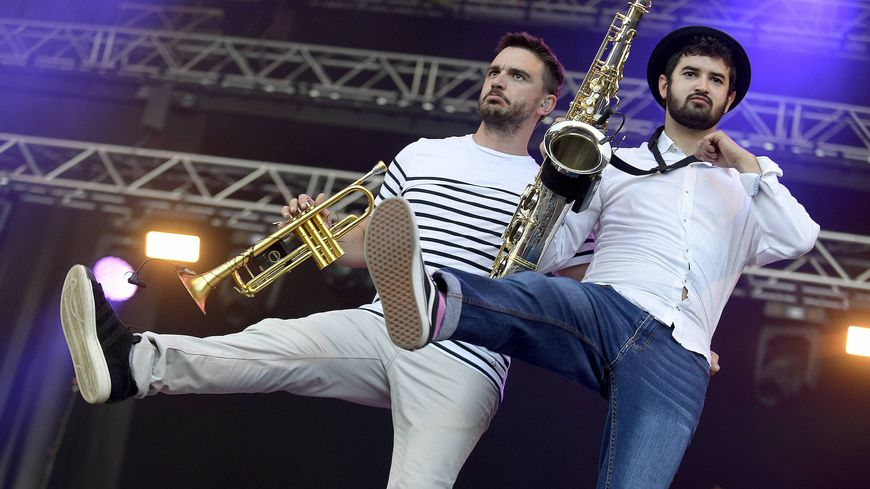without_mask: (484, 60, 533, 124), (675, 64, 725, 121)
